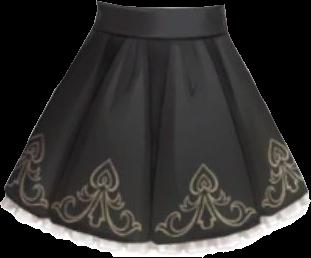Hemline: (2, 186, 309, 245), (0, 201, 310, 257)
Waistline: (91, 28, 230, 41), (96, 0, 227, 9)
